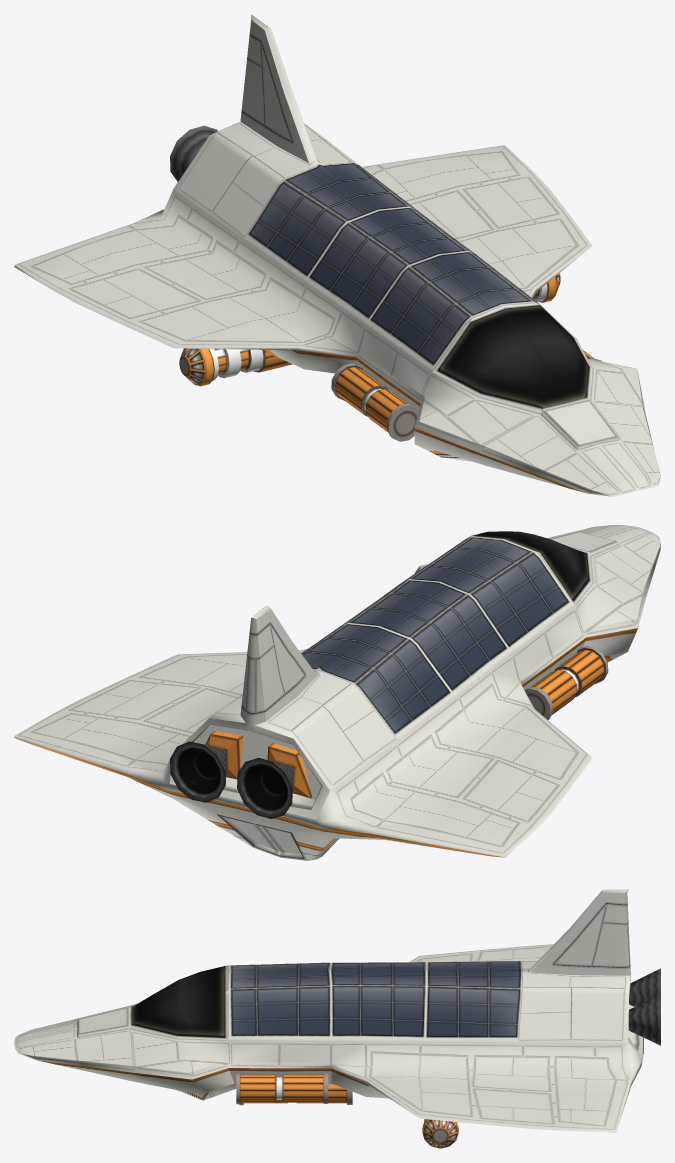
Rendered from spaceship.fbx.
3 views of the same model, one above another, from view 1: azimuth 30°, elevation 25°; view 2: azimuth 150°, elevation 25°; view 3: azimuth 270°, elevation 25° (orthographic). The views are drawn at different scales.
Visible parts, largest first — view 1: Spaceship; view 2: Spaceship; view 3: Spaceship.
Boxes of the visible parts, x1=… form: Spaceship: x1=14, y1=14, x2=660, y2=496; Spaceship: x1=14, y1=525, x2=660, y2=860; Spaceship: x1=14, y1=889, x2=660, y2=1148.
Size of the model in its own units: 15.2 by 7.76 by 21.83.
Materials: 1 (1 with a texture image).
